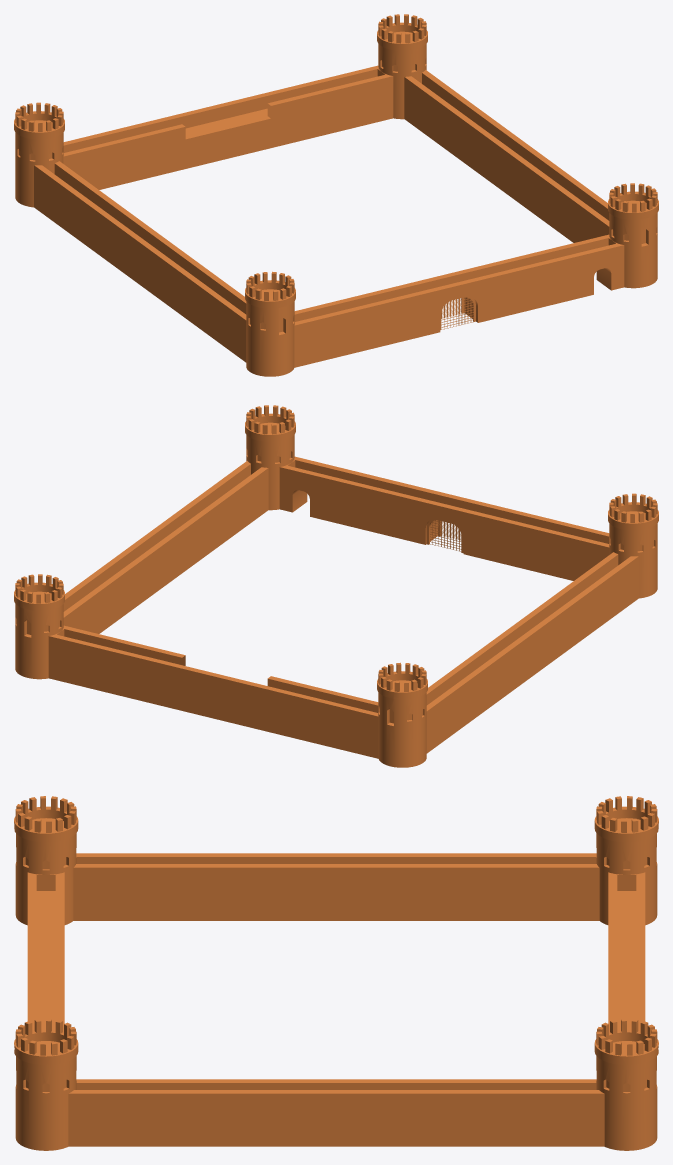
Rendered from Castelo_Walls.fbx.
3 renders of one model, top to bottom at view 1: azimuth 30°, elevation 25°; view 2: azimuth 150°, elevation 25°; view 3: azimuth 270°, elevation 25°, orthographic. The views are drawn at different scales.
Visible parts, largest first — view 1: Walls, Towers, Ground; view 2: Walls, Towers; view 3: Walls, Towers, Ground.
Boxes of the visible parts, x1,y1,x2,y2 form: Walls: (34, 65, 624, 367); Towers: (14, 14, 658, 376); Ground: (185, 108, 267, 135); Walls: (48, 456, 638, 758); Towers: (14, 405, 658, 767); Walls: (27, 853, 645, 1146); Towers: (14, 796, 658, 1150); Ground: (36, 891, 636, 1029).
Bounding box in the file's own units: 37594 × 7461 × 40999.
